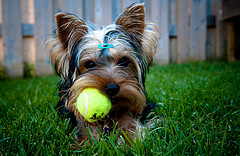tennis ball: (77, 87, 112, 122)
